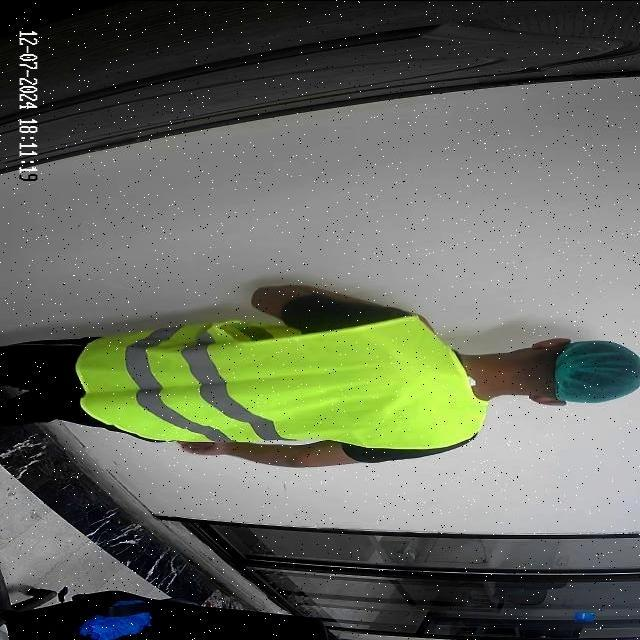gloves: (564, 329, 632, 397)
no_apron: (172, 433, 228, 469)
